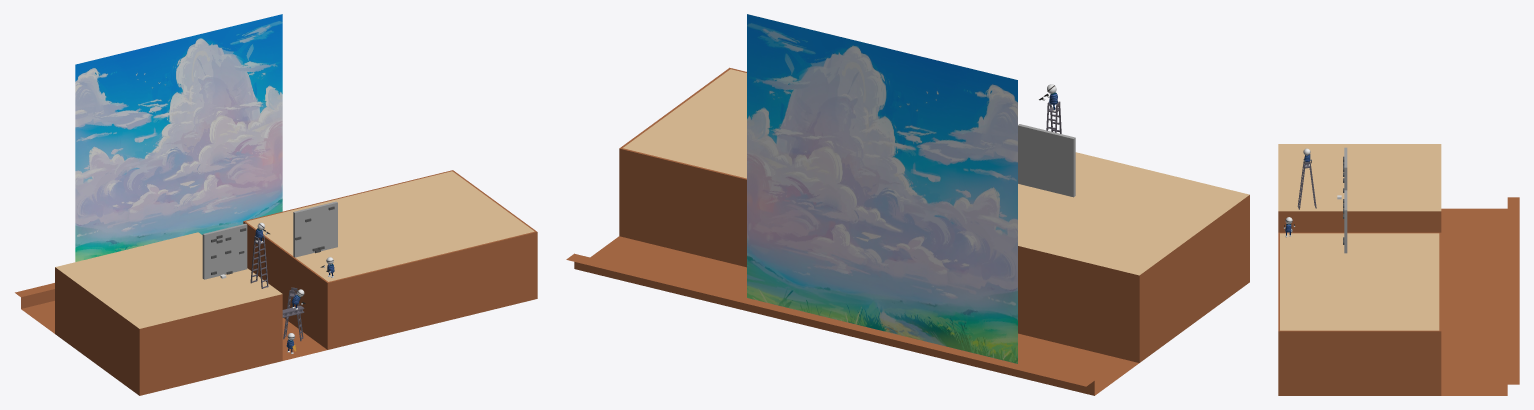
3 renders of one model, left to right at view 1: azimuth 30°, elevation 25°; view 2: azimuth 150°, elevation 25°; view 3: azimuth 270°, elevation 25°, orthographic. The views are drawn at different scales.
Visible parts, largest first — view 1: floor, background, wall.001, wall, ladder.001; view 2: background, floor, wall; view 3: floor, ladder.001, wall.001.
Part boxes in pixels (left/top/right/bottom): floor: left=15, top=170, right=537, bottom=395; background: left=75, top=14, right=282, bottom=261; wall.001: left=293, top=201, right=337, bottom=257; wall: left=202, top=223, right=247, bottom=279; ladder.001: left=250, top=236, right=268, bottom=288; background: left=747, top=14, right=1017, bottom=363; floor: left=566, top=67, right=1249, bottom=395; wall: left=1018, top=124, right=1075, bottom=197; floor: left=1278, top=144, right=1519, bottom=395; ladder.001: left=1297, top=159, right=1316, bottom=209; wall.001: left=1344, top=190, right=1347, bottom=253.
Size of the model in its own units: 3808 by 2101 by 2074.
